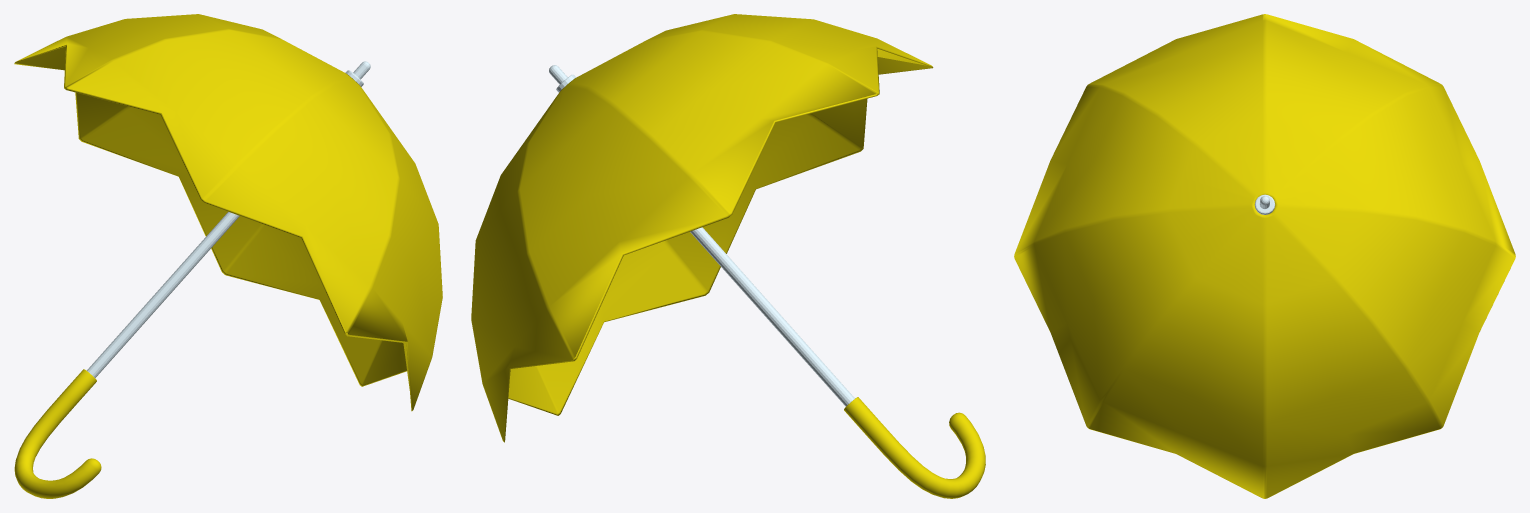
Rendered from umbrella.glb.
3 renders of one model, left to right at view 1: azimuth 30°, elevation 25°; view 2: azimuth 150°, elevation 25°; view 3: azimuth 270°, elevation 25°, orthographic. The views are drawn at different scales.
Parts seen in each view (by area): view 1: Umbrella; view 2: Umbrella; view 3: Umbrella.
Part boxes in pixels (x1,y1,x2,y2): Umbrella: (14,14,442,498); Umbrella: (471,14,985,498); Umbrella: (1014,14,1515,498).
Size of the model in its own units: 0.9577 by 0.8937 by 1.08.
